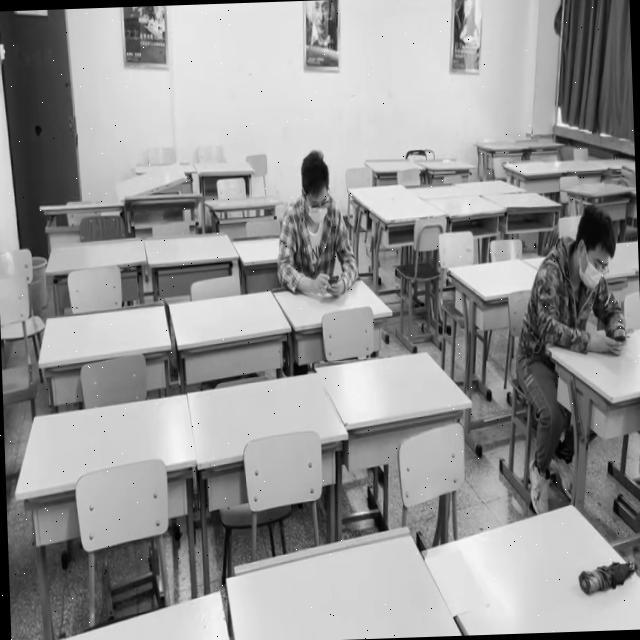phone: (542, 205, 628, 356), (274, 152, 357, 298)
